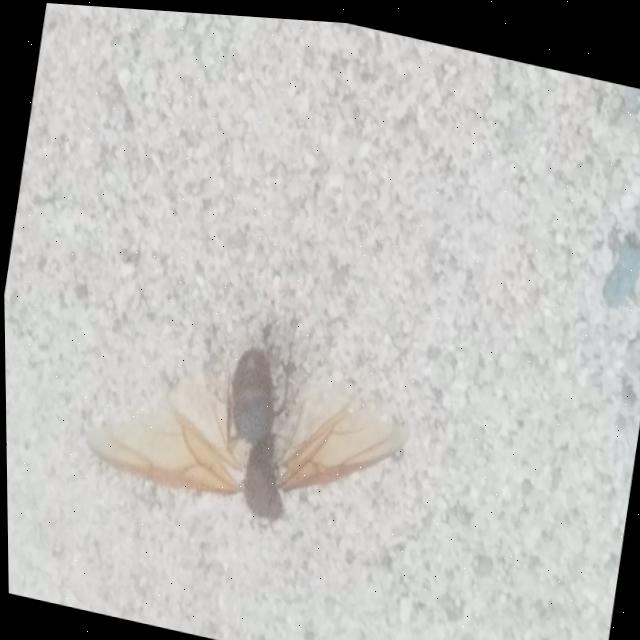Alive-Female-Alate: (73, 261, 426, 560)
